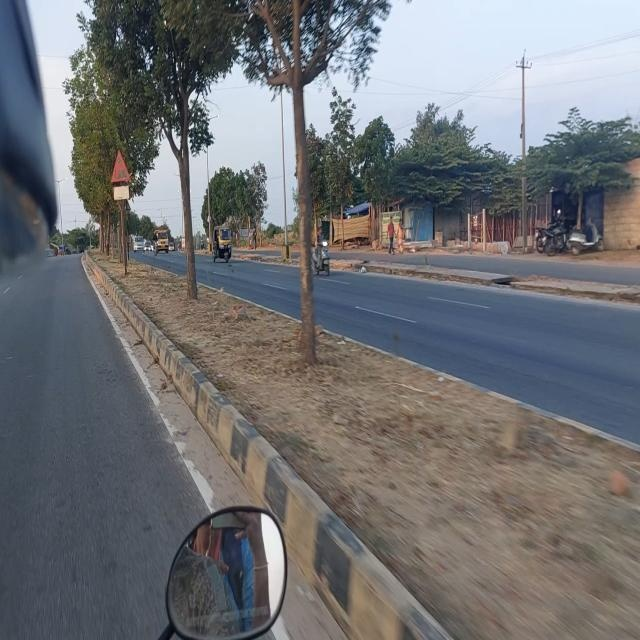bien_nguy_hiem: (109, 146, 131, 186)
